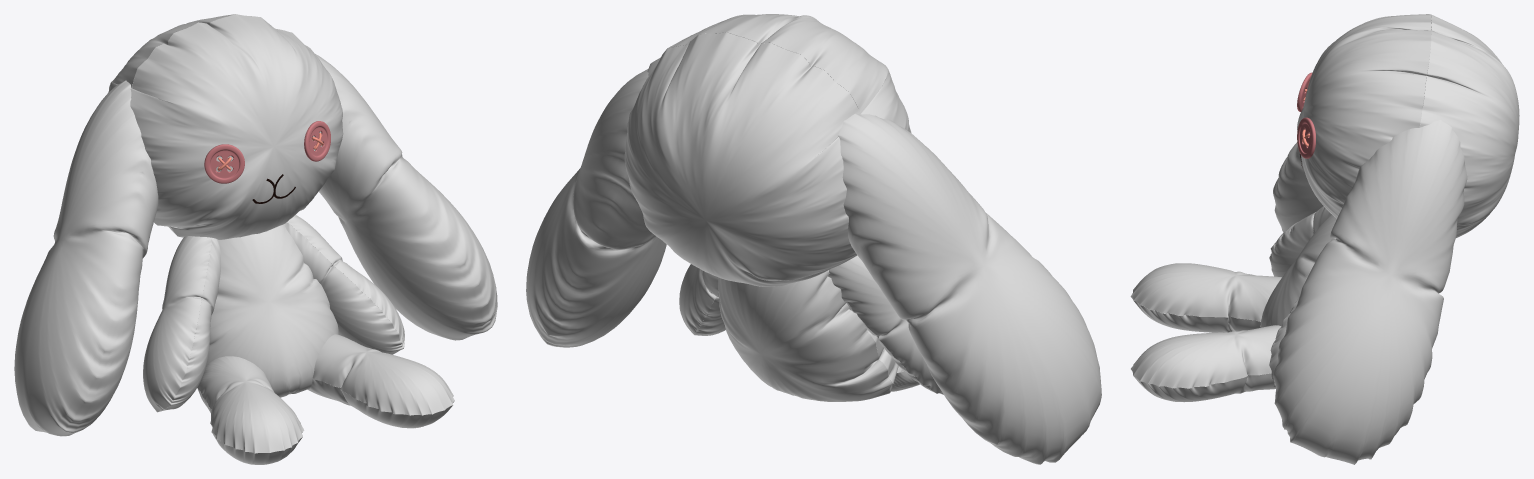
The model's file is bunny_plushie.fbx.
3 views of the same model, side by side, from view 1: azimuth 30°, elevation 25°; view 2: azimuth 150°, elevation 25°; view 3: azimuth 270°, elevation 25° (orthographic). The views are drawn at different scales.
Parts seen in each view (by area): view 1: ear, head, leg, arm, body, buttoned_eye; view 2: ear, head, body, arm; view 3: ear, head, leg, body, arm, buttoned_eye.
Boxes of the visible parts, box(x1,y1,x2,y2) form: ear: box(14, 54, 497, 436); head: box(108, 14, 343, 239); leg: box(197, 334, 454, 464); arm: box(143, 214, 404, 412); body: box(206, 224, 338, 397); buttoned_eye: box(204, 121, 330, 183); ear: box(526, 69, 1101, 464); head: box(624, 14, 911, 286); body: box(718, 270, 898, 401); arm: box(679, 255, 943, 394); ear: box(1273, 35, 1467, 464); head: box(1297, 14, 1519, 237); leg: box(1130, 263, 1281, 402); body: box(1260, 214, 1336, 327); arm: box(1269, 206, 1331, 387); buttoned_eye: box(1297, 72, 1315, 158).
Size of the model in its own units: 387 by 269 by 283.
